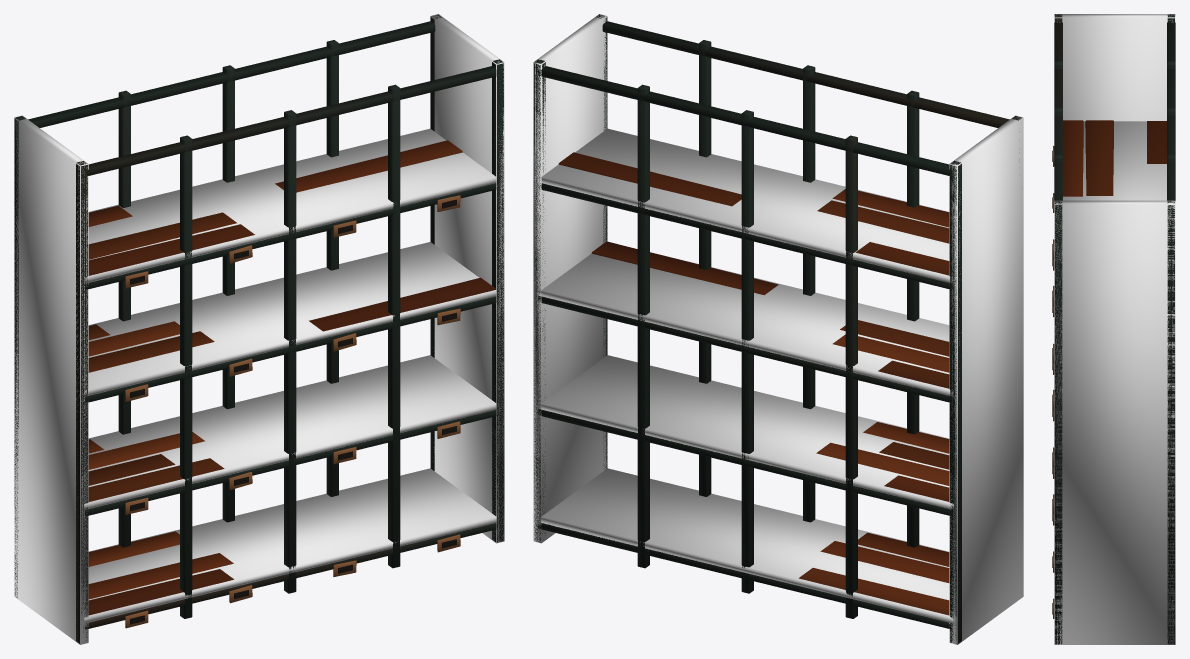
File: consigna_baldas.glb
3 renders of one model, left to right at view 1: azimuth 30°, elevation 25°; view 2: azimuth 150°, elevation 25°; view 3: azimuth 270°, elevation 25°, orthographic. The views are drawn at different scales.
Parts seen in each view (by area): view 1: armazon, costado_0-colcaja, baldas, costado_1-colcaja, balda_1-colcaja, balda_0-colcaja, balda_2-colcaja, balda_3-colcaja; view 2: armazon, costado_0-colcaja, costado_1-colcaja, baldas, balda_1-colcaja, balda_0-colcaja, balda_2-colcaja, balda_3-colcaja; view 3: costado_1-colcaja, costado_0-colcaja, armazon, baldas, balda_3-colcaja.
Boxes of the visible parts, x1,y1,x2,y2 form: armazon: (14,14,503,643); costado_0-colcaja: (14,115,88,644); baldas: (88,140,495,628); costado_1-colcaja: (430,14,504,543); balda_1-colcaja: (84,355,496,509); balda_0-colcaja: (84,468,496,623); balda_2-colcaja: (84,242,496,396); balda_3-colcaja: (84,128,496,283); armazon: (534,14,1022,643); costado_0-colcaja: (949,115,1023,644); costado_1-colcaja: (533,14,607,543); baldas: (558,152,949,615); balda_1-colcaja: (537,355,953,509); balda_0-colcaja: (538,468,953,623); balda_2-colcaja: (537,253,953,397); balda_3-colcaja: (537,128,953,283); costado_1-colcaja: (1054,200,1175,644); costado_0-colcaja: (1054,14,1175,121); armazon: (1054,14,1175,644); baldas: (1052,120,1166,618); balda_3-colcaja: (1063,121,1166,200).
Size of the model in its own units: 2.04 by 2.2 by 0.559.
